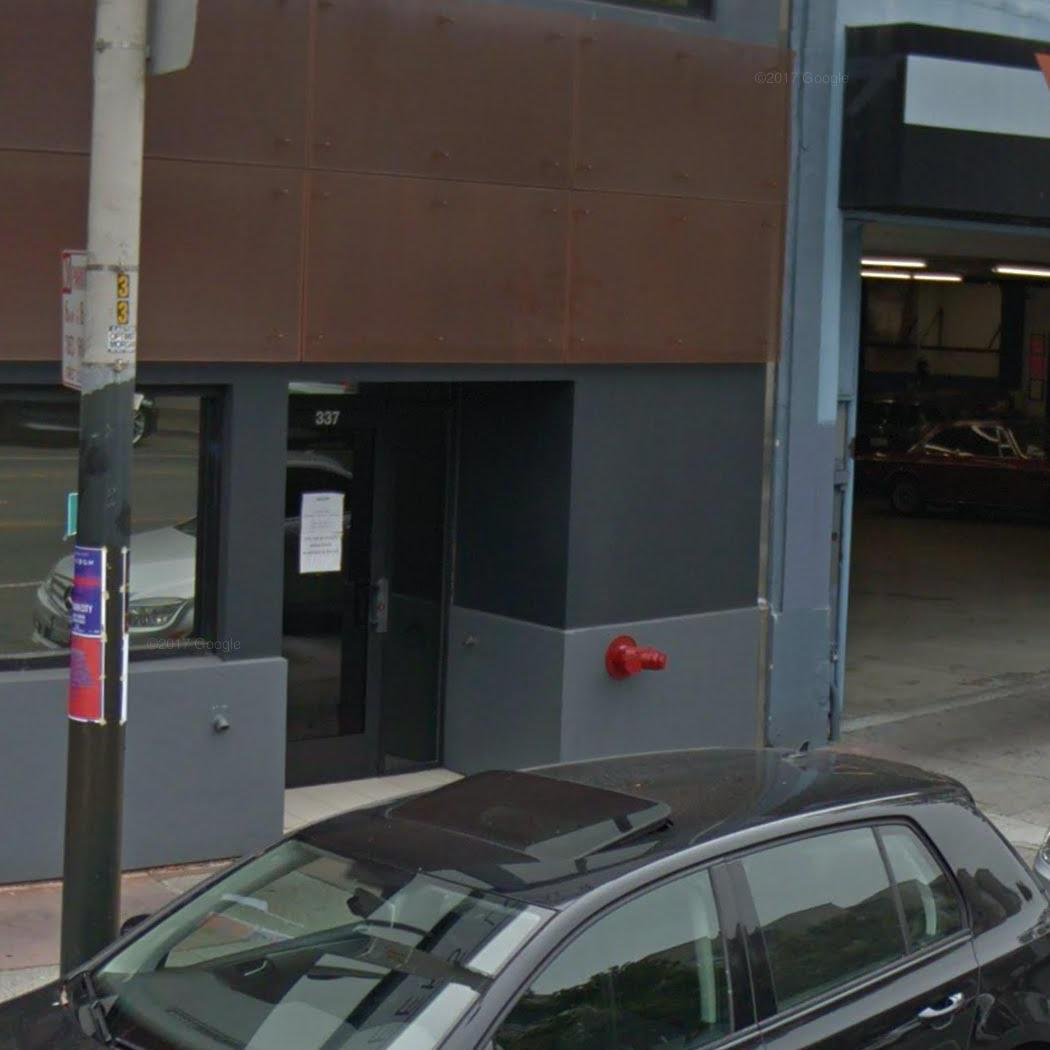No Parking: (55, 242, 99, 393)
